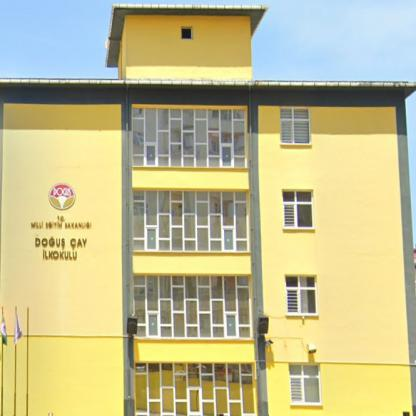window: (132, 276, 251, 338), (133, 190, 248, 252), (133, 106, 247, 168), (136, 362, 256, 415), (285, 276, 316, 314), (290, 365, 320, 404), (280, 108, 310, 144), (282, 191, 312, 227), (181, 27, 192, 38)
